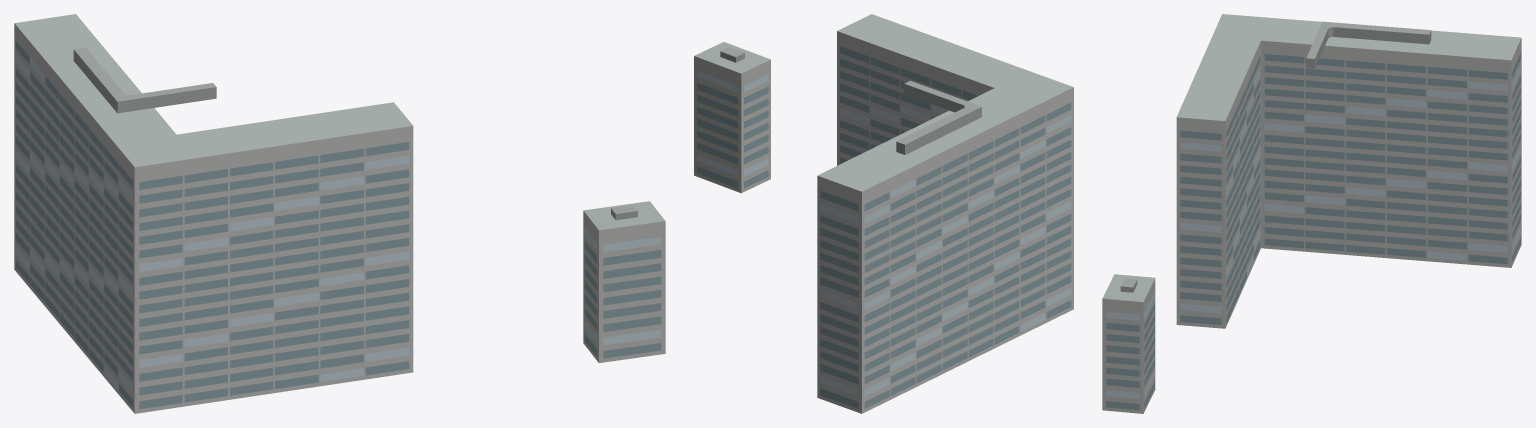
File: apt-a15882006.glb
3 renders of one model, left to right at view 1: azimuth 30°, elevation 25°; view 2: azimuth 150°, elevation 25°; view 3: azimuth 270°, elevation 25°, orthographic. The views are drawn at different scales.
Parts seen in each view (by area): view 1: apt-a15882006; view 2: apt-a15882006; view 3: apt-a15882006.
Part boxes in pixels (x1,y1,x2,y2): apt-a15882006: [14, 14, 665, 413]; apt-a15882006: [694, 14, 1073, 413]; apt-a15882006: [1102, 14, 1521, 413].
Bounding box in the file's own units: 98.69 × 52 × 90.85.
